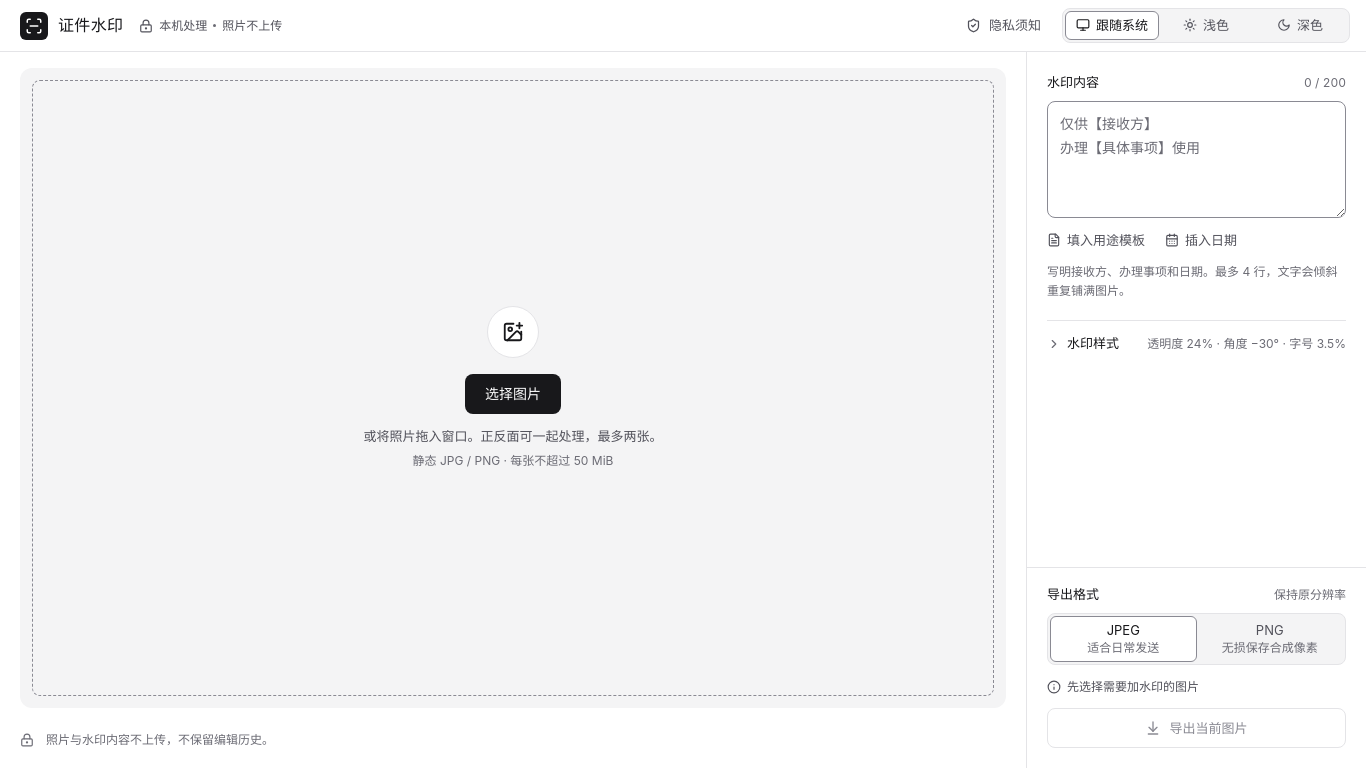
Test case: import shows progress while the file dialog is open
This screenshot has width=1366, height=768.
Later steps or results of the test are not shown.
Click the button "选择图片". click: click(90, 388)
box: [32,80,994,696]
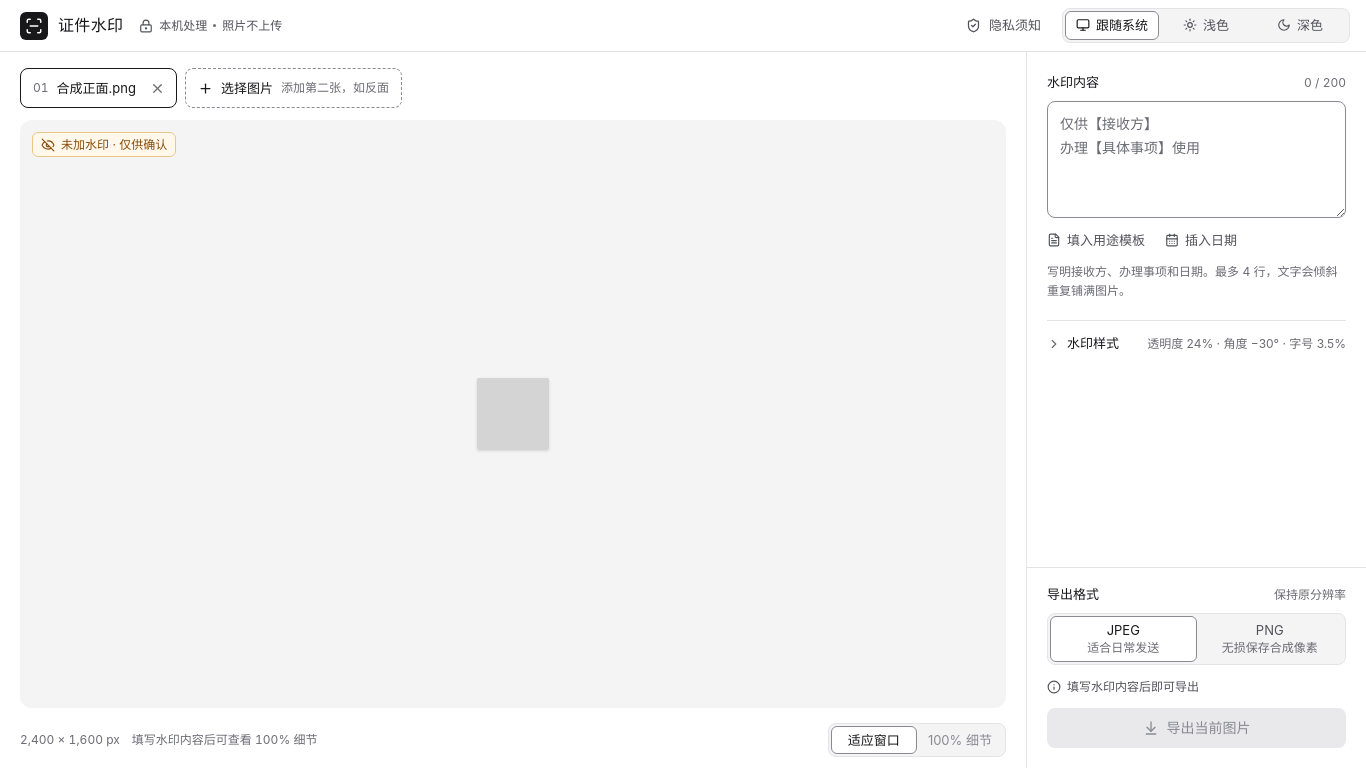
Expected: the text "合成正面.png" is shown, [57,78,136,98]
